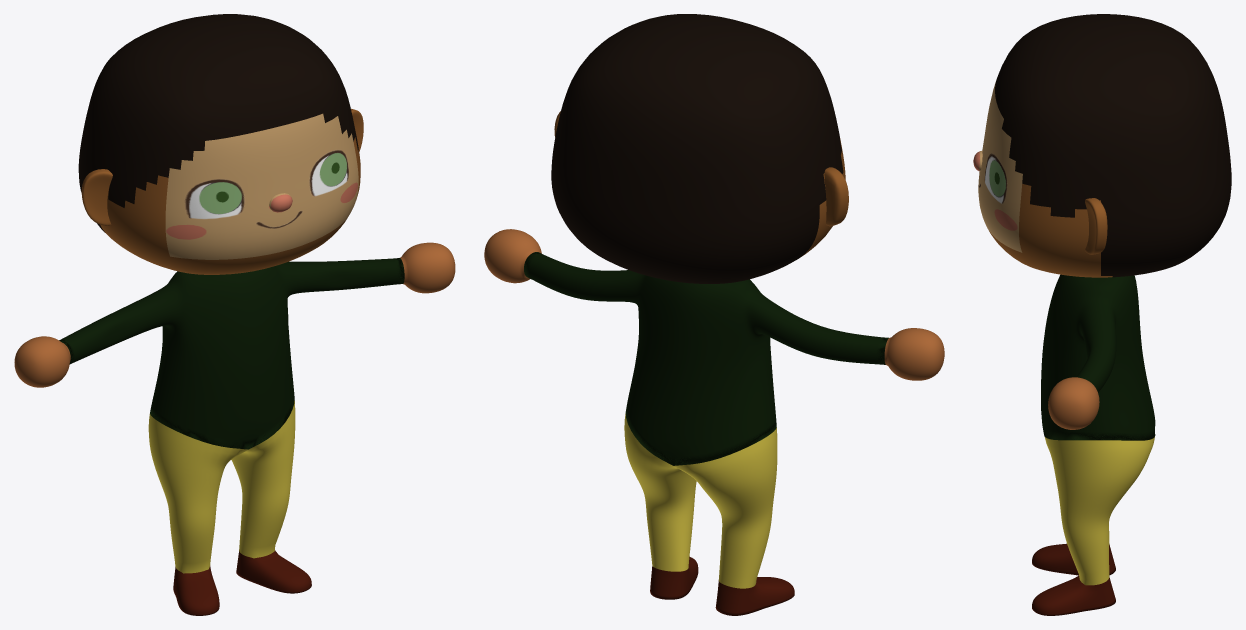
Rendered from Hans standing smiling.obj.
3 renders of one model, left to right at view 1: azimuth 30°, elevation 25°; view 2: azimuth 150°, elevation 25°; view 3: azimuth 270°, elevation 25°, orthographic. The views are drawn at different scales.
Visible parts, largest first — view 1: Cube.001, Cube.002, Cube.003, Cube.008, Cube.005, Cube.004; view 2: Cube.001, Cube.002, Cube.003, Cube.008, Cube.005, Cube.004; view 3: Cube.001, Cube.002, Cube.003, Cube.008, Cube.004.
Part boxes in pixels (x1,y1,x2,y2): Cube.001: (78,14,363,274); Cube.002: (59,258,404,449); Cube.003: (148,401,295,573); Cube.008: (173,550,311,615); Cube.005: (14,336,70,387); Cube.004: (400,242,455,293); Cube.001: (551,14,848,283); Cube.002: (524,252,888,465); Cube.003: (624,414,777,588); Cube.008: (650,556,794,615); Cube.005: (884,328,944,380); Cube.004: (484,229,541,283); Cube.001: (973,14,1231,277); Cube.002: (1041,274,1155,440); Cube.003: (1045,437,1154,585); Cube.008: (1032,543,1115,615); Cube.004: (1048,377,1099,429).
Bounding box in the file's own units: 2.58 × 3.1 × 1.32.
